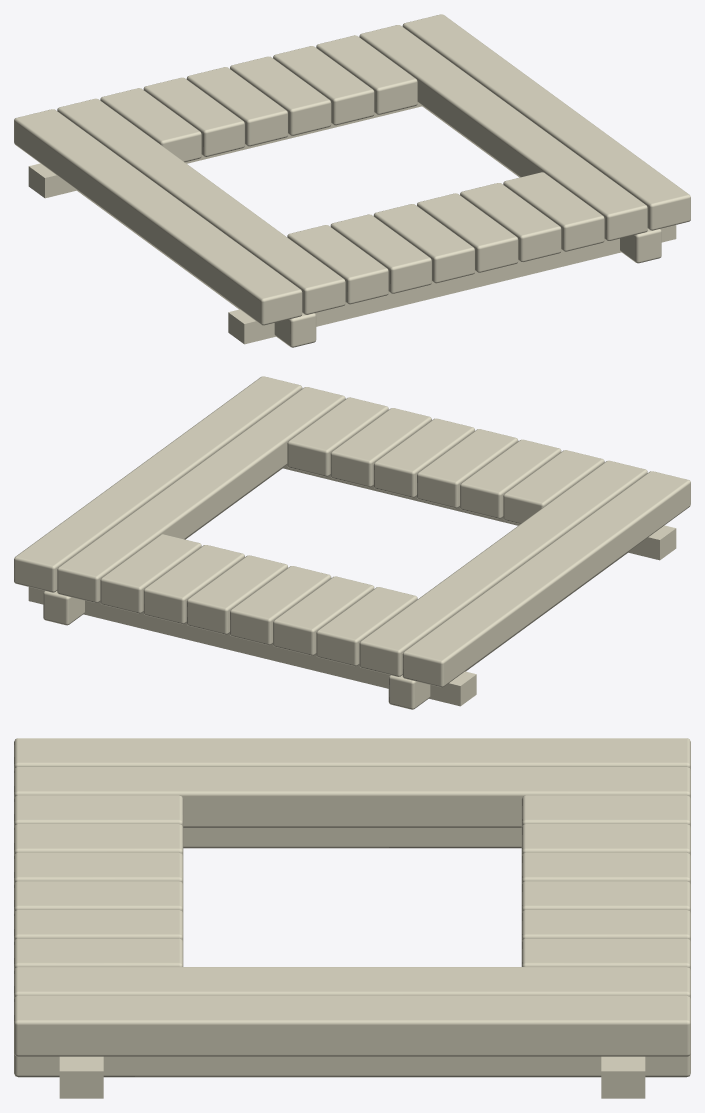
The model's file is bunker-shelter-construction-shelter-hatch-floor-873712aa__23293.glb.
The picture shows the model from 3 angles, top to bottom: view 1: azimuth 30°, elevation 25°; view 2: azimuth 150°, elevation 25°; view 3: azimuth 270°, elevation 25°; orthographic projection. The views are drawn at different scales.
Visible parts, largest first — view 1: shelter-hatch-floor; view 2: shelter-hatch-floor; view 3: shelter-hatch-floor.
Boxes of the visible parts, x1=… form: shelter-hatch-floor: x1=14, y1=14, x2=690, y2=347; shelter-hatch-floor: x1=14, y1=376, x2=690, y2=709; shelter-hatch-floor: x1=14, y1=738, x2=690, y2=1098.
Bounding box in the file's own units: 2 × 0.25 × 2.
